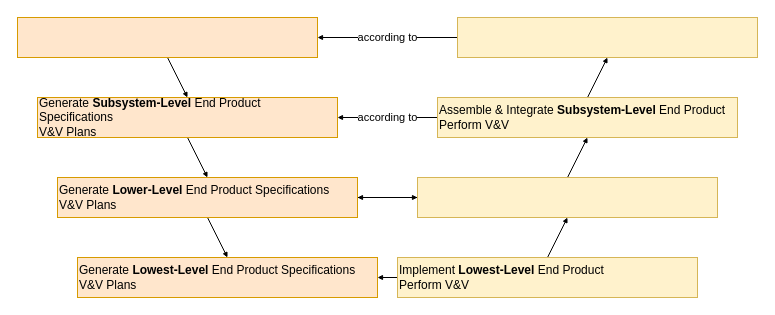
Some shapes in this 775 by 315 pixel diagram are drawn without their labels. Each missing label, with the centre of its shape:
"Assemble & Integrate Next Level-Up End Product & Perform V&V" goes at pixel 567 197.
"Assemble & Integrate System-Level End Product Perform V&V" goes at pixel 607 37.
"Generate System-Level End Product Specification V&V Plans" goes at pixel 167 37.
